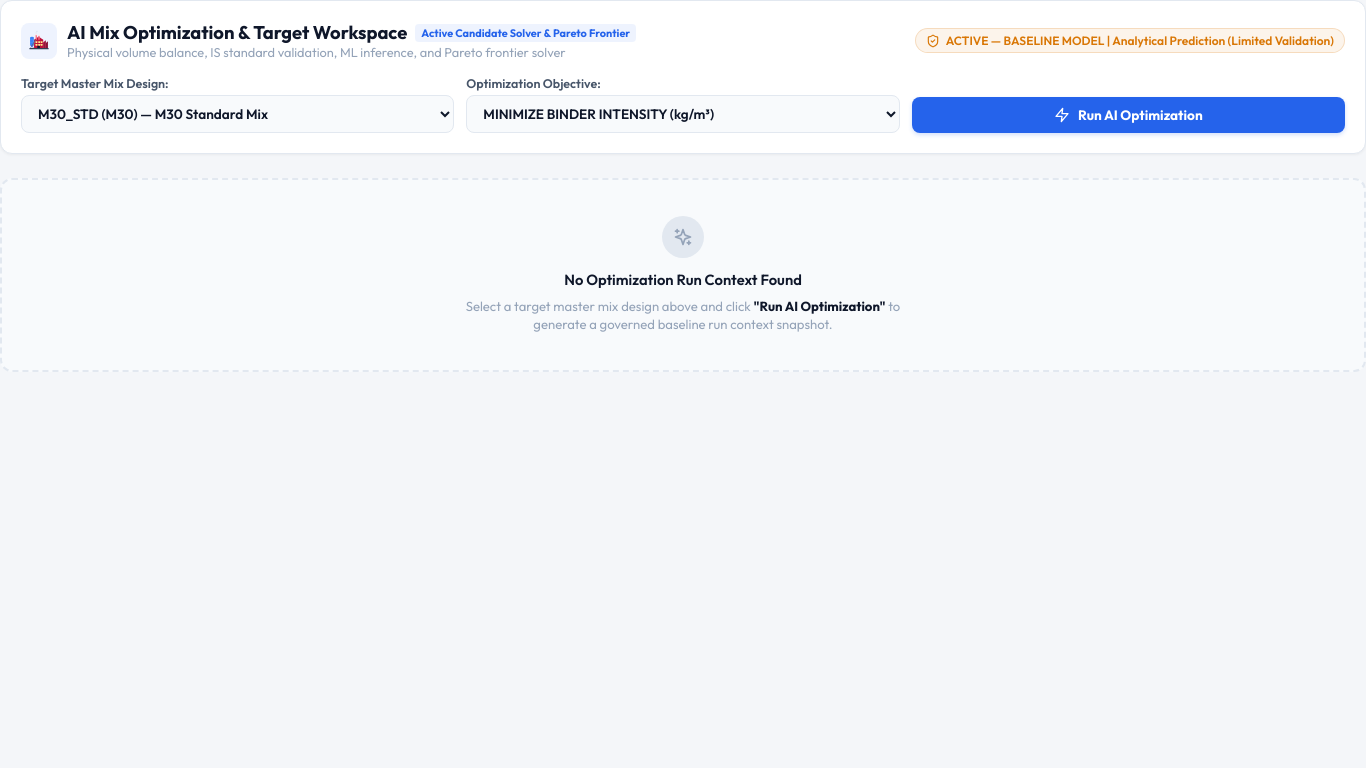
MixOptimizationSection Component › 3. Explicitly triggers optimization run and renders immutable snapshot details and empty candidate state
Click the button "Run AI Optimization". click: (1128, 115)
box: [912,97,1345,133]
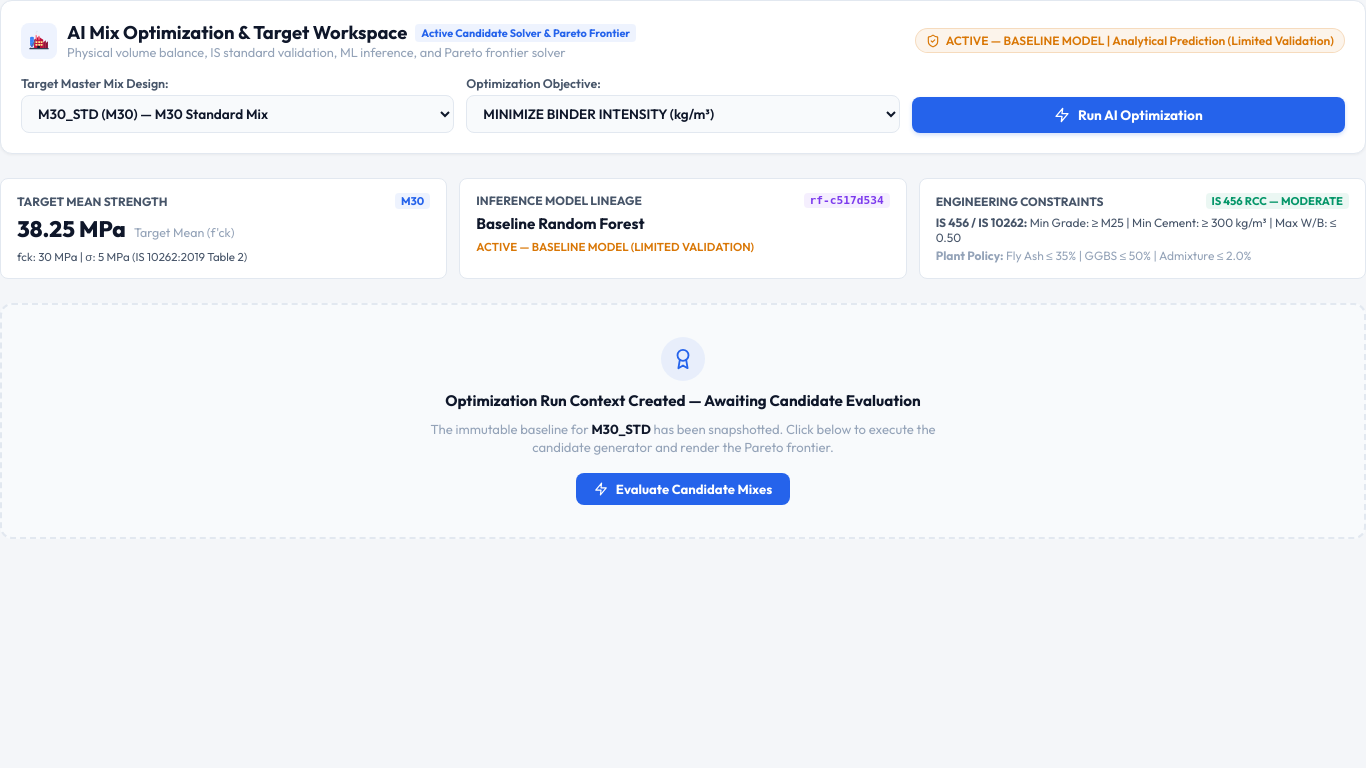
Expected: the heading "Target Mean Strength" is shown, [17,194,168,208]
Expected: the text "38.25 MPa" is shown, [17,215,126,243]
Expected: the text "rf-c517d534" is shown, [804,193,890,208]
